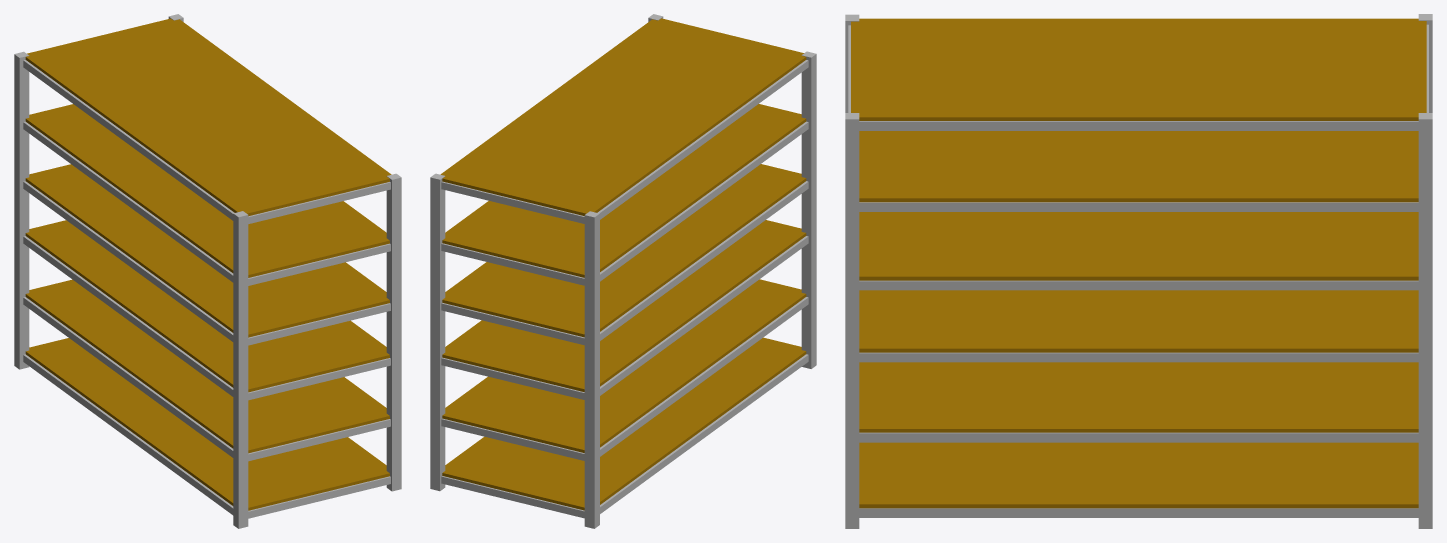
Rendered from tana_rokudan_mimura.fbx.
3 renders of one model, left to right at view 1: azimuth 30°, elevation 25°; view 2: azimuth 150°, elevation 25°; view 3: azimuth 270°, elevation 25°, orthographic. The views are drawn at different scales.
Parts seen in each view (by area): view 1: pCube11; view 2: pCube11; view 3: pCube11.
Part boxes in pixels (left/top/right/bottom): pCube11: left=14, top=14, right=401, bottom=528; pCube11: left=430, top=14, right=816, bottom=528; pCube11: left=845, top=14, right=1432, bottom=528.
Bounding box in the file's own units: 2.74 × 4.96 × 6.44.
